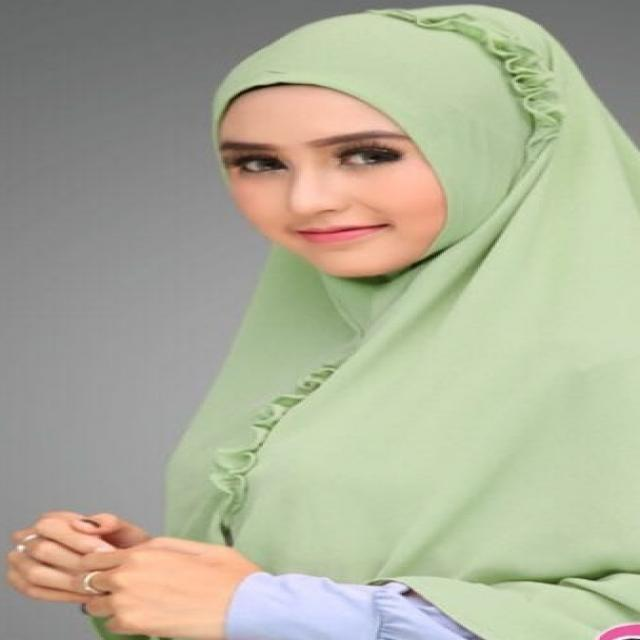head: (195, 5, 610, 279)
